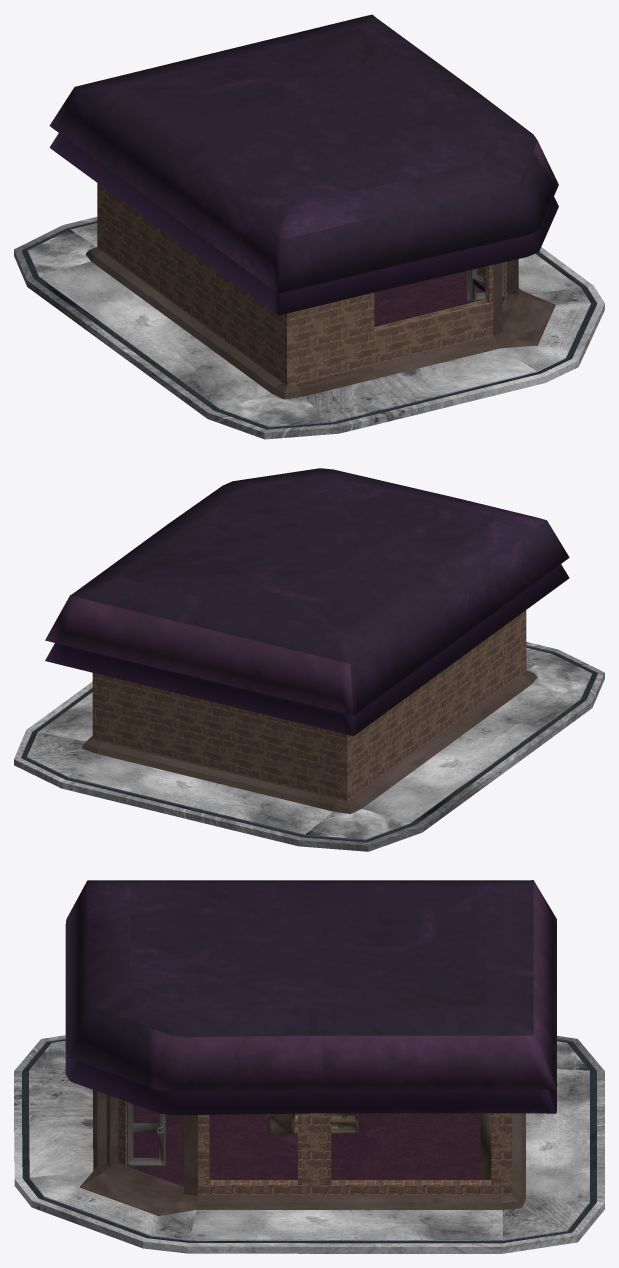
Rendered from MelOMart_v0.2.fbx.
The picture shows the model from 3 angles, top to bottom: view 1: azimuth 30°, elevation 25°; view 2: azimuth 150°, elevation 25°; view 3: azimuth 270°, elevation 25°; orthographic projection. The views are drawn at different scales.
Parts seen in each view (by area): view 1: melOmart-building-roof-top.001, melOmart-building-ext.001, melOmart-building-roof.001; view 2: melOmart-building-roof-top.001, melOmart-building-ext.001, melOmart-building-roof.001; view 3: melOmart-building-roof-top.001, melOmart-building-ext.001, melOmart-building-roof.001, melOmart-glass-door2-frnt.002, melOmart-counter1.003, melOmart-tall-shelf.003.
Part boxes in pixels (x1=…): melOmart-building-roof-top.001: x1=49, y1=14, x2=558, y2=293; melOmart-building-ext.001: x1=14, y1=183, x2=604, y2=439; melOmart-building-roof.001: x1=49, y1=133, x2=558, y2=315; melOmart-building-roof-top.001: x1=45, y1=468, x2=569, y2=715; melOmart-building-ext.001: x1=14, y1=610, x2=604, y2=851; melOmart-building-roof.001: x1=45, y1=564, x2=569, y2=736; melOmart-building-roof-top.001: x1=65, y1=880, x2=556, y2=1091; melOmart-building-ext.001: x1=14, y1=1035, x2=604, y2=1253; melOmart-building-roof.001: x1=65, y1=1051, x2=556, y2=1115; melOmart-glass-door2-frnt.002: x1=127, y1=1102, x2=165, y2=1166; melOmart-counter1.003: x1=268, y1=1113, x2=358, y2=1135; melOmart-tall-shelf.003: x1=480, y1=1113, x2=491, y2=1179.
Bounding box in the file's own units: 1010 × 426 × 1150.
